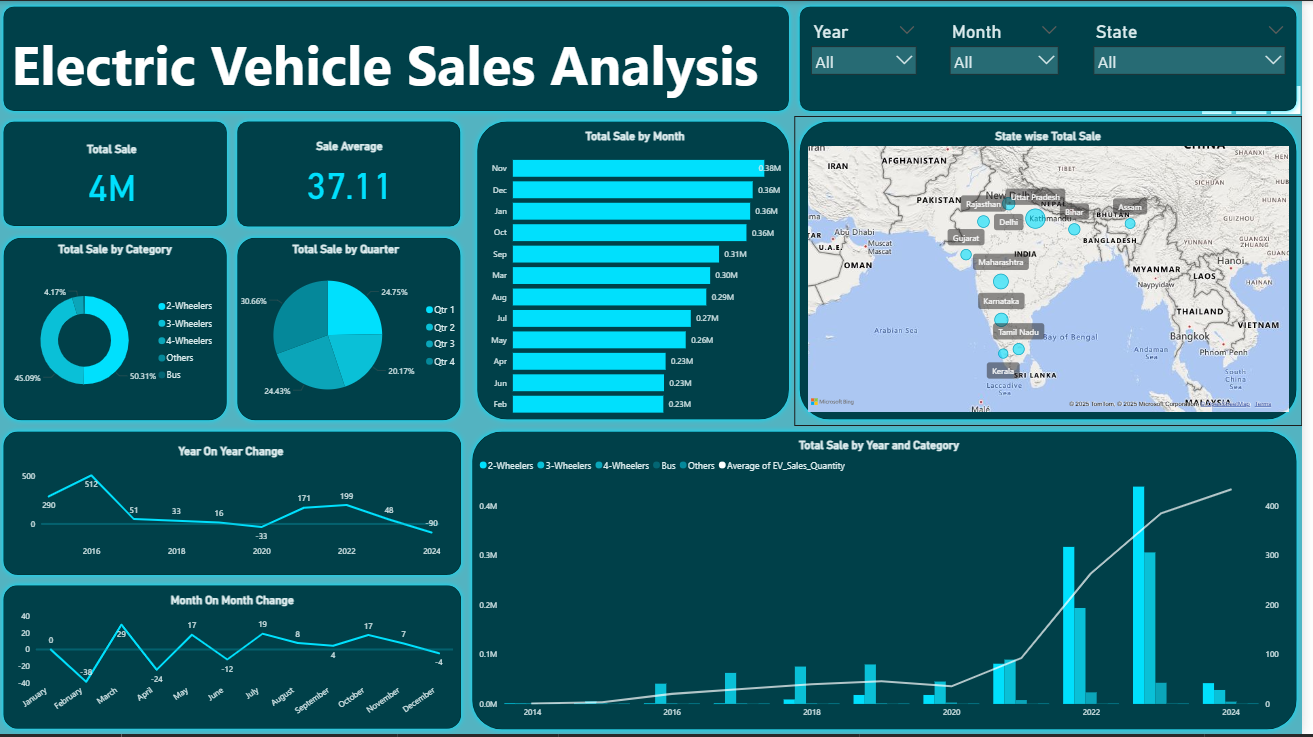

What the dashboard file says about the page in this screenshot:
{"tool":"powerbi","page":{"name":"Dashboard","canvas":[1920,1080],"ordinal":12},"visuals":[{"type":"shape","title":"xcv cxbgfvb","box":[344.4,169.7,344.4,170.7],"z":0},{"type":"shape","title":"xcv cxbgfvb","box":[0,170,345,170],"z":1000},{"type":"shape","title":"xcv cxbgfvb","box":[690,625,1230,455],"z":2000},{"type":"shape","title":"xcv cxbgfvb","box":[0,852.5,690,227.5],"z":3000},{"type":"lineChart","title":"Month On Month Change","fields":{"Y":["DAX.MOM"],"Category":["ev.Date.Variation.Date Hierarchy.Month"]},"box":[0,852.5,690,227.5],"z":4000},{"type":"shape","title":"xcv cxbgfvb","box":[1172.5,170,747.5,455],"z":5000},{"type":"map","title":"State wise Total Sale","fields":{"Category":["ev.State"],"Size":["Sum(ev.EV_Sales_Quantity)"]},"box":[1172.5,170,747.5,455],"z":6000},{"type":"shape","title":"xcv cxbgfvb","box":[0,625,690,227.5],"z":7000},{"type":"shape","title":"xcv cxbgfvb","box":[345,340,345,285],"z":8000},{"type":"shape","title":"xcv cxbgfvb","box":[0,340,345,285],"z":9000},{"type":"donutChart","title":"Total Sale by Category","fields":{"Category":["ev.Vehicle_Category"],"Y":["Sum(ev.EV_Sales_Quantity)"]},"box":[0,335,345,305],"z":10000},{"type":"pieChart","title":"Total Sale by Quarter","fields":{"Y":["Sum(ev.EV_Sales_Quantity)"],"Category":["ev.Date.Variation.Date Hierarchy.Quarter"]},"box":[322.5,335,380,290],"z":11000},{"type":"shape","title":"xcv cxbgfvb","box":[1172.5,0,747.5,170],"z":12000},{"type":"shape","title":"xcv cxbgfvb","box":[697.5,170,475,455],"z":13000},{"type":"clusteredBarChart","title":"Total Sale by Month","fields":{"Y":["Sum(ev.EV_Sales_Quantity)"],"Category":["ev.Month_Name"]},"box":[702.5,170,470,470],"z":14000},{"type":"lineChart","title":"Year On Year Change","fields":{"Category":["ev.Date.Variation.Date Hierarchy.Year"],"Y":["DAX.YOY"]},"box":[15,633.3,656.7,210],"z":15000},{"type":"card","title":"Total Sale ","fields":{"Values":["Sum(ev.EV_Sales_Quantity)"]},"box":[0,187.9,335.4,137.4],"z":16000},{"type":"card","title":"Sale Average","fields":{"Values":["Avg(ev.EV_Sales_Quantity)"]},"box":[349.5,184.8,335.4,140.4],"z":17000},{"type":"shape","title":"xcv cxbgfvb","box":[0,0,1172.5,170],"z":18000},{"type":"textbox","box":[15,32.5,1125,137.5],"z":19000},{"type":"slicer","title":"Year","fields":{"Values":["ev.Date.Variation.Date Hierarchy.Year"]},"box":[1172.5,10,205,132.5],"z":20000},{"type":"slicer","title":"Year","fields":{"Values":["ev.Date.Variation.Date Hierarchy.Month"]},"box":[1377.5,10,210,132.5],"z":21000},{"type":"slicer","title":"Year","fields":{"Values":["ev.State"]},"box":[1587.5,10,332.5,132.5],"z":22000},{"type":"lineClusteredColumnComboChart","title":"Total Sale by Year and Category","fields":{"Y":["Sum(ev.EV_Sales_Quantity)"],"Y2":["Avg(ev.EV_Sales_Quantity)"],"Series":["ev.Vehicle_Category"],"Category":["ev.Date.Variation.Date Hierarchy.Year"]},"box":[688,624,1218,456],"z":23000}]}

Visuals, with their boxes in screenshot pixels (x1, y1, x2, y2), scaled from the page's 1920x1080 canvas onto the 1313x737 screenshot:
"xcv cxbgfvb" shape: (236, 116, 471, 232)
"xcv cxbgfvb" shape: (0, 116, 236, 232)
"xcv cxbgfvb" shape: (472, 427, 1312, 736)
"xcv cxbgfvb" shape: (0, 582, 472, 736)
"Month On Month Change" lineChart: (0, 582, 472, 736)
"xcv cxbgfvb" shape: (802, 116, 1312, 427)
"State wise Total Sale" map: (802, 116, 1312, 427)
"xcv cxbgfvb" shape: (0, 427, 472, 582)
"xcv cxbgfvb" shape: (236, 232, 472, 427)
"xcv cxbgfvb" shape: (0, 232, 236, 427)
"Total Sale by Category" donutChart: (0, 229, 236, 437)
"Total Sale by Quarter" pieChart: (221, 229, 480, 427)
"xcv cxbgfvb" shape: (802, 0, 1312, 116)
"xcv cxbgfvb" shape: (477, 116, 802, 427)
"Total Sale by Month" clusteredBarChart: (480, 116, 802, 437)
"Year On Year Change" lineChart: (10, 432, 459, 575)
"Total Sale " card: (0, 128, 229, 222)
"Sale Average" card: (239, 126, 468, 222)
"xcv cxbgfvb" shape: (0, 0, 802, 116)
textbox: (10, 22, 780, 116)
"Year" slicer: (802, 7, 942, 97)
"Year" slicer: (942, 7, 1086, 97)
"Year" slicer: (1086, 7, 1312, 97)
"Total Sale by Year and Category" lineClusteredColumnComboChart: (470, 426, 1303, 736)
